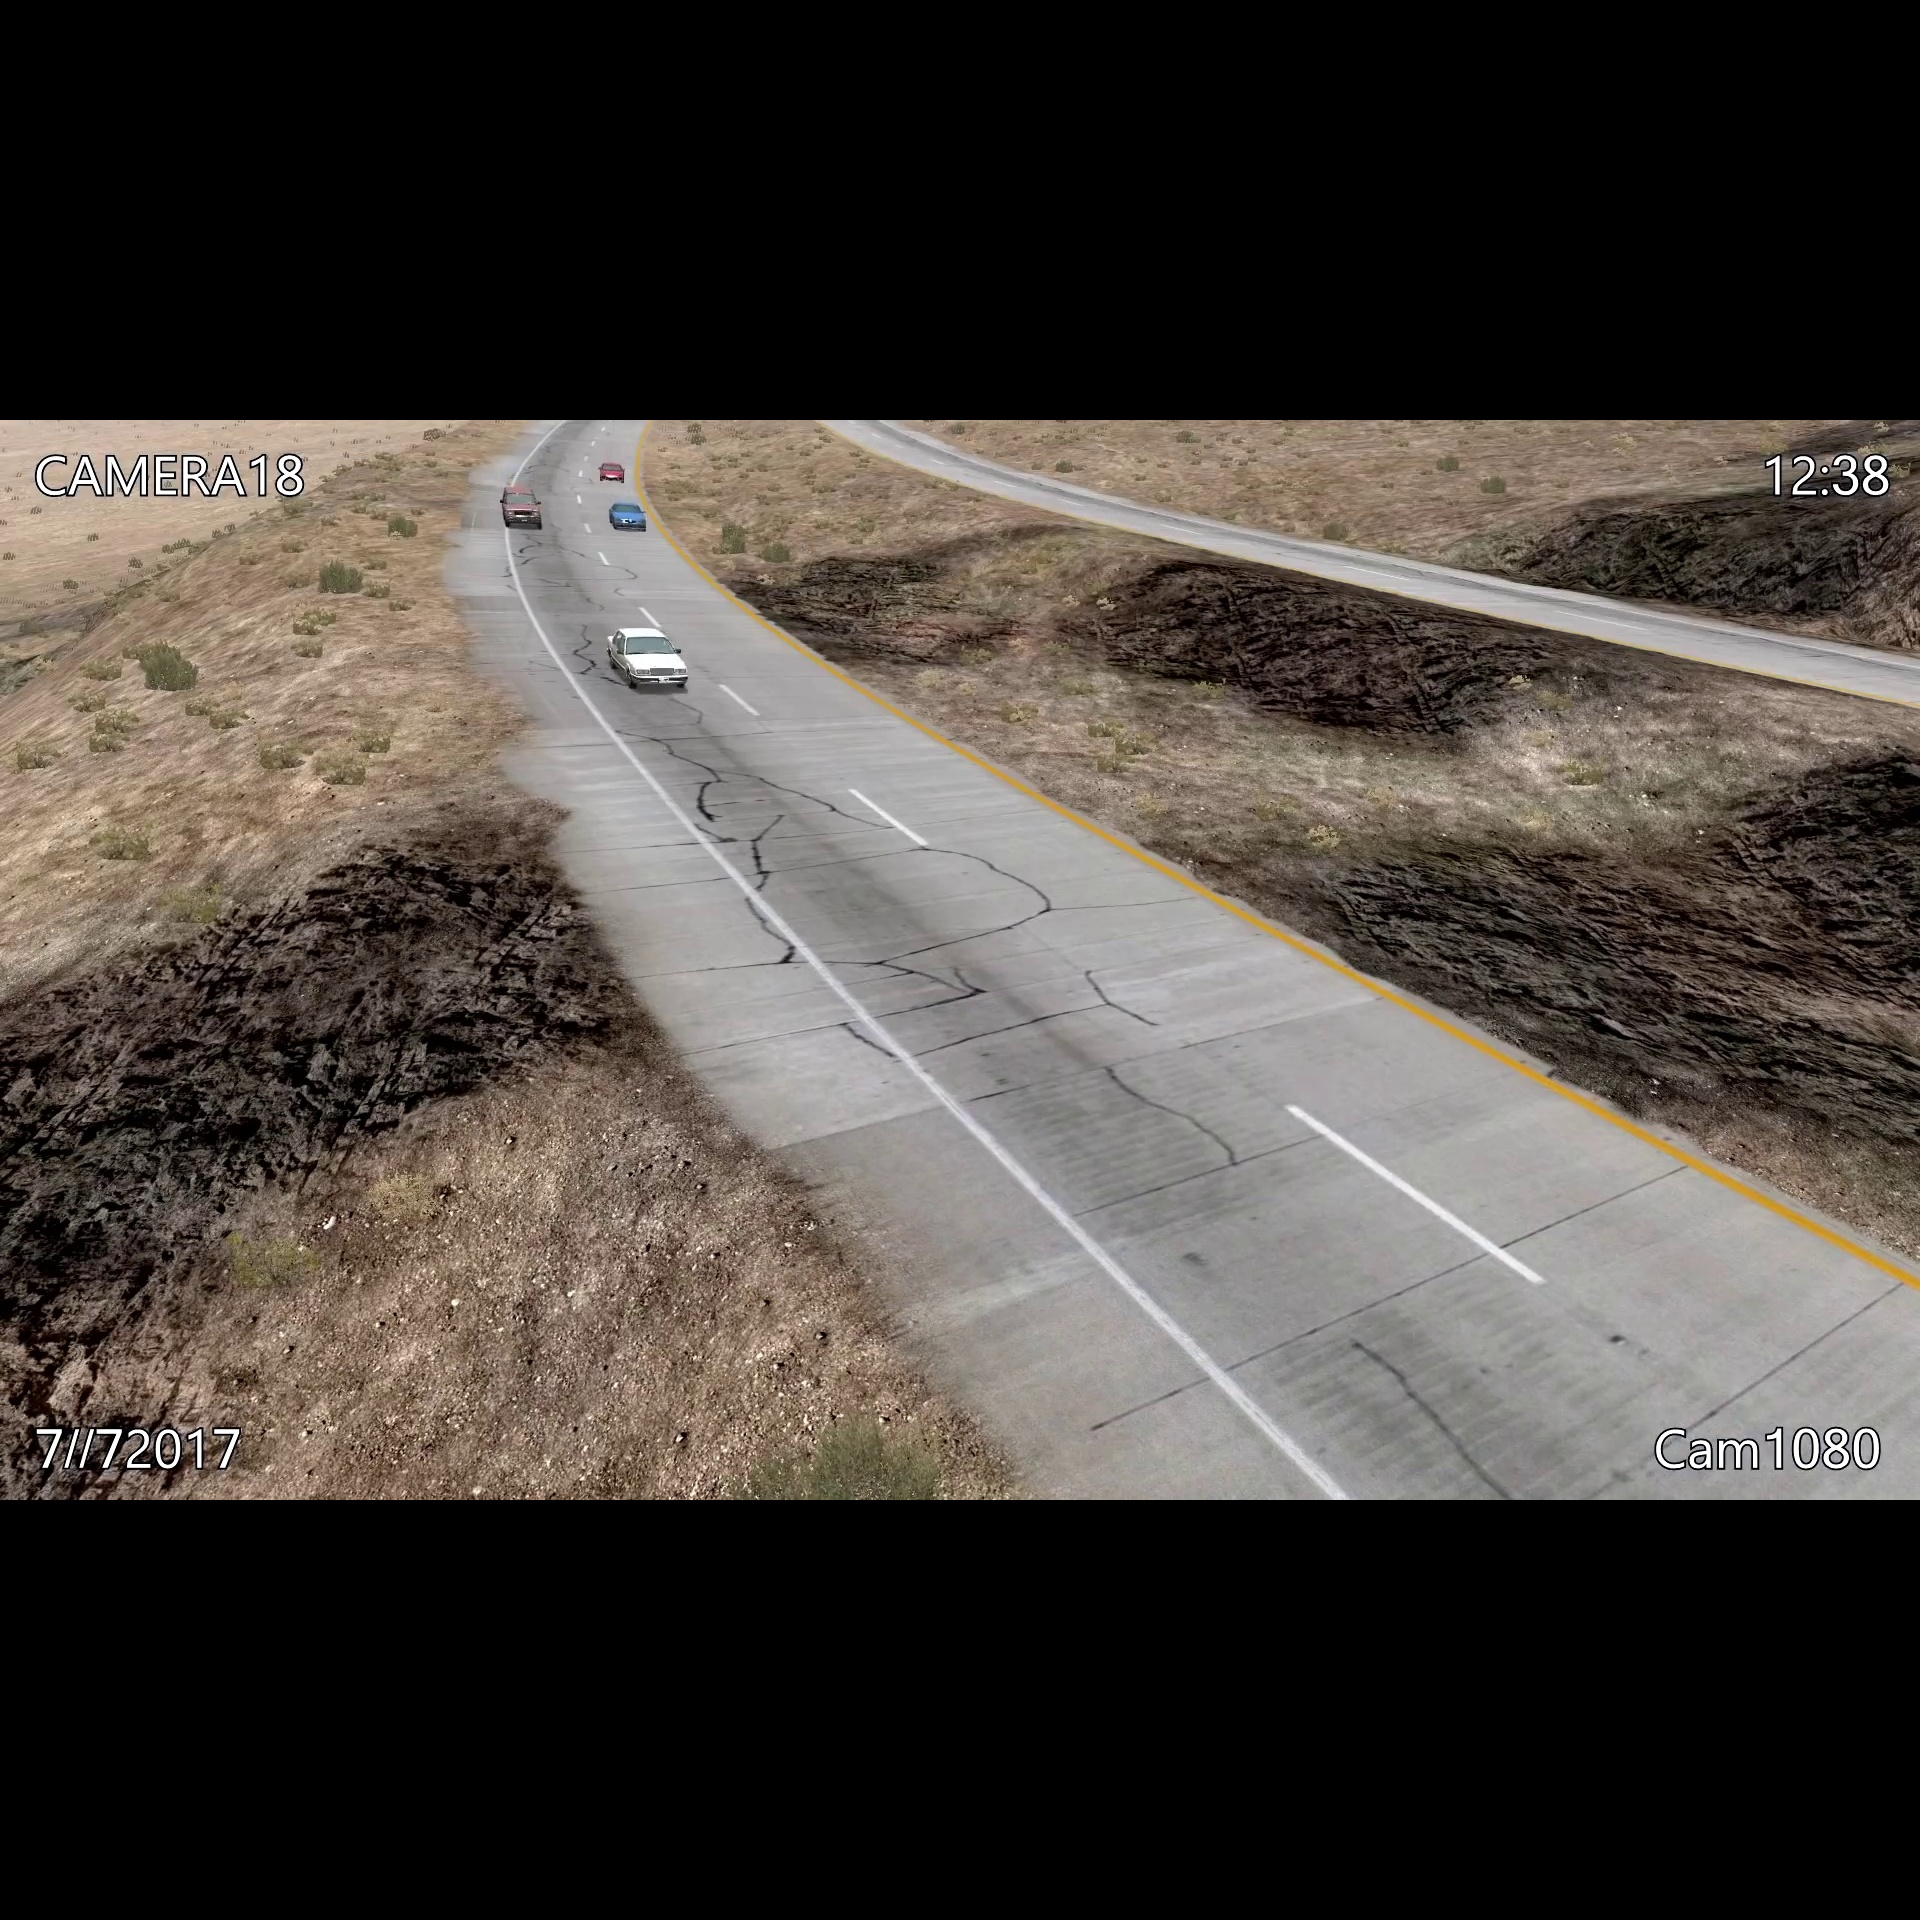vehicle: (605, 622, 695, 695), (496, 485, 545, 535), (607, 498, 651, 535), (594, 457, 624, 482)
